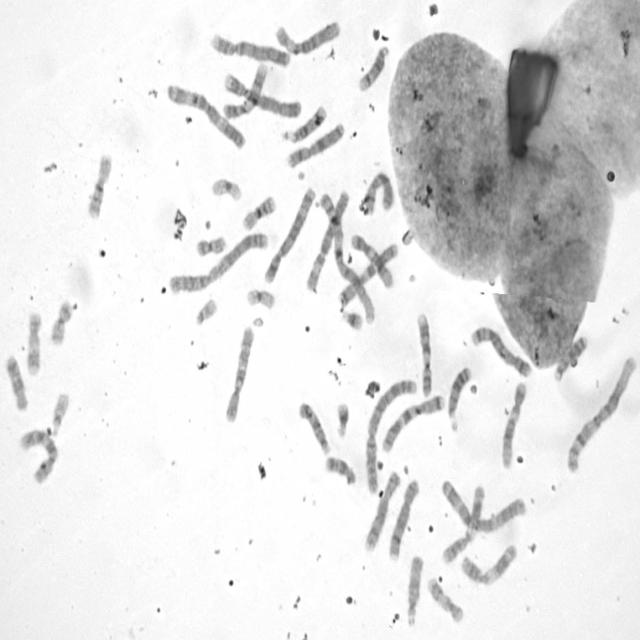A1: (564, 354, 638, 476), (319, 191, 376, 325)
A2: (168, 230, 269, 294), (364, 378, 418, 496)
A3: (167, 82, 246, 150), (440, 478, 528, 534)
B4: (223, 71, 302, 120), (209, 31, 292, 67)
B5: (264, 184, 316, 283), (470, 325, 532, 379)
C10: (224, 324, 254, 424), (19, 427, 60, 485)
C11: (441, 483, 486, 565), (460, 542, 518, 588)
C12: (348, 232, 394, 290), (500, 381, 528, 471)
C6: (306, 186, 350, 292), (272, 18, 340, 58)
C7: (338, 240, 398, 309), (381, 392, 446, 453)
C8: (364, 469, 403, 554), (386, 478, 419, 560)
C9: (222, 62, 268, 119), (416, 313, 433, 397)
D13: (446, 365, 474, 432), (553, 334, 589, 381)
D14: (280, 104, 328, 146), (356, 44, 392, 92)
D15: (299, 401, 331, 457), (406, 553, 424, 626)
E16: (87, 153, 112, 219), (242, 193, 276, 232)
E17: (427, 574, 465, 624), (26, 309, 43, 377)
E18: (5, 353, 29, 412), (324, 454, 356, 488)
F19: (211, 176, 243, 203), (245, 288, 277, 312)
F20: (50, 297, 74, 345), (195, 234, 225, 259)
G21: (340, 308, 364, 331), (336, 400, 350, 439)
G22: (50, 390, 71, 436), (192, 296, 220, 328)
X: (286, 122, 344, 168), (363, 169, 394, 219)
